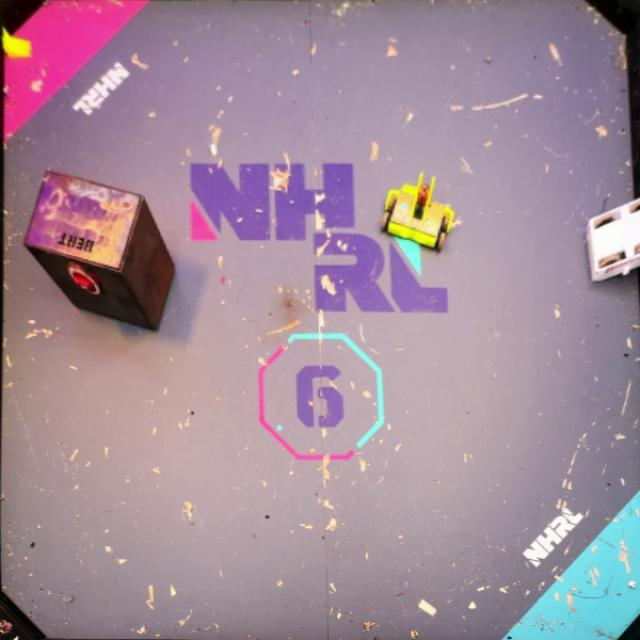housebot: (24, 167, 176, 331)
robot: (380, 172, 463, 255), (585, 195, 640, 282)
